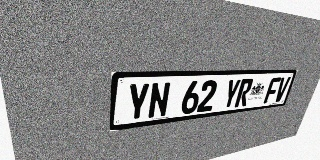2: (197, 80, 218, 112)
6: (180, 81, 203, 115)
F: (263, 77, 281, 104)
N: (147, 82, 171, 119)
R: (234, 78, 254, 107)
V: (273, 77, 291, 102)
Y: (126, 83, 150, 122), (221, 79, 241, 109)
